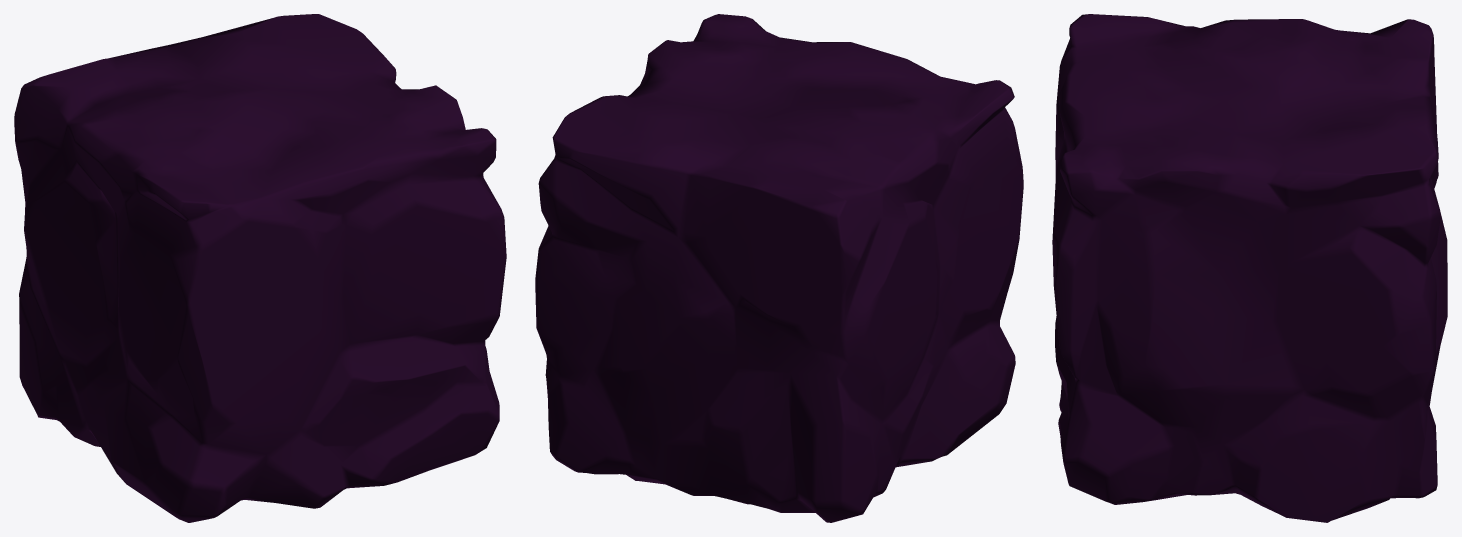
File: SM_RockBlock_02.fbx
3 renders of one model, left to right at view 1: azimuth 30°, elevation 25°; view 2: azimuth 150°, elevation 25°; view 3: azimuth 270°, elevation 25°, orthographic. The views are drawn at different scales.
Parts seen in each view (by area): view 1: Cube; view 2: Cube; view 3: Cube.
Boxes of the visible parts, box(x1,y1,x2,y2) form: Cube: box(14, 14, 506, 522); Cube: box(535, 14, 1023, 522); Cube: box(1052, 14, 1447, 522).
Size of the model in its own units: 211 by 206 by 208.
Materials: 1 (1 with a texture image).
